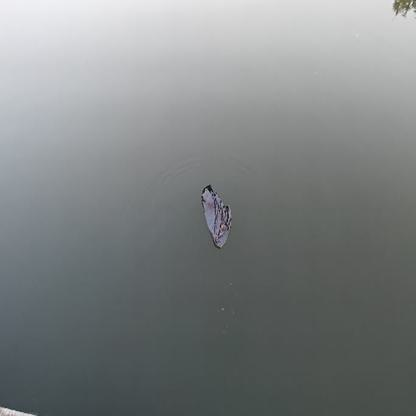plastic bag: (201, 184, 234, 249)
